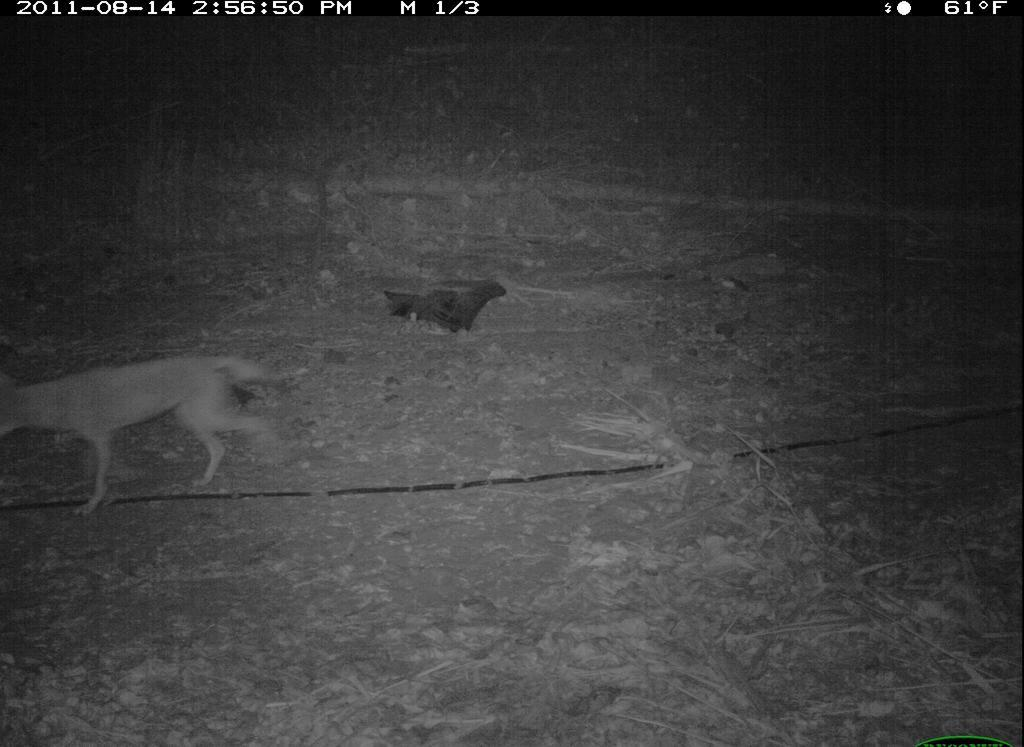coyote: (3, 347, 309, 518)
